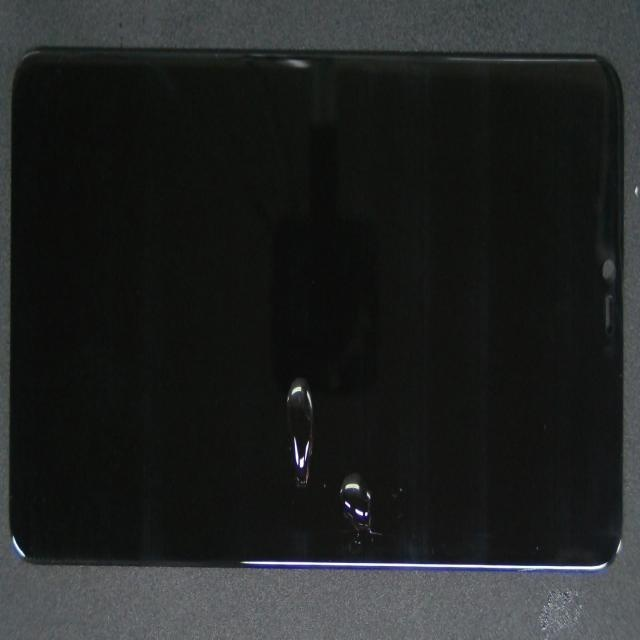oil: (199, 255, 561, 640), (168, 197, 463, 558)
